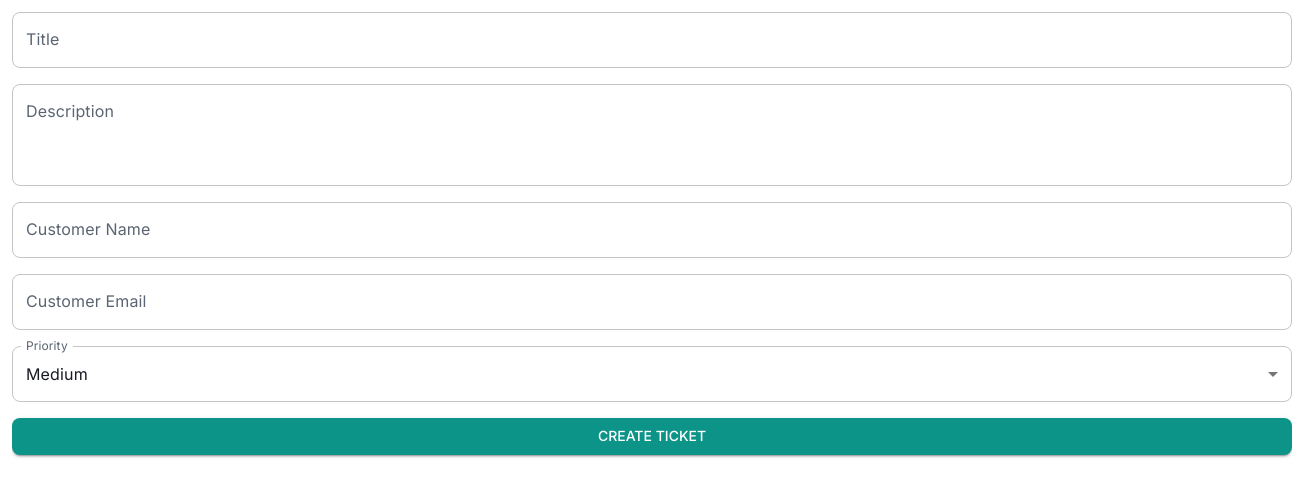
TicketForm › shows a validation error for an invalid email format
Type "Some issue" into the field labelled "Title". click: point(652, 40)
box: [12,12,1292,68]
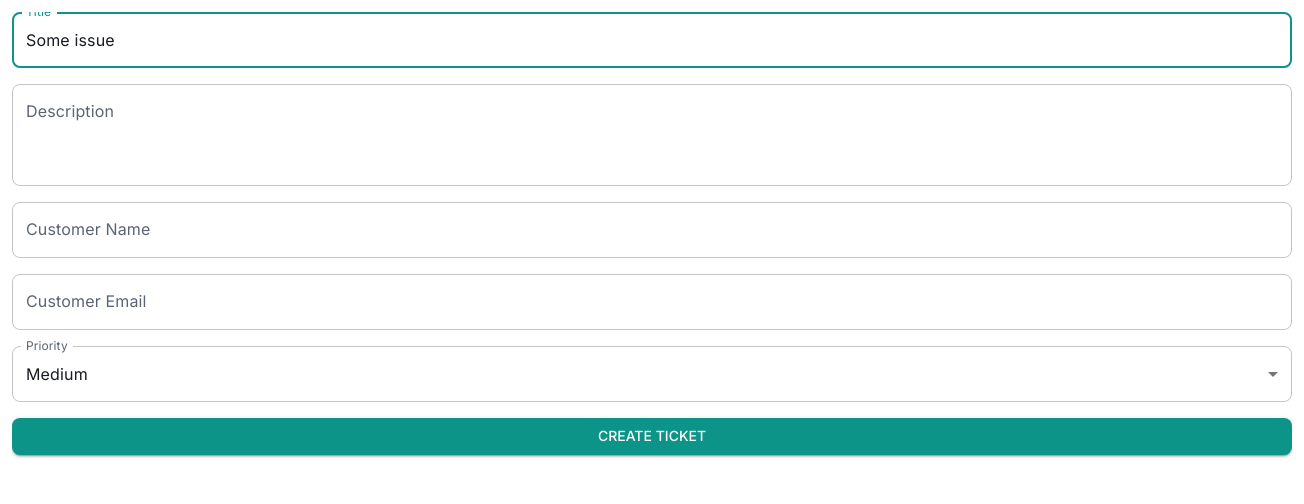
Type "Some description" into the text box labelled "Description". click: point(652, 135)
box: [26,100,1278,170]
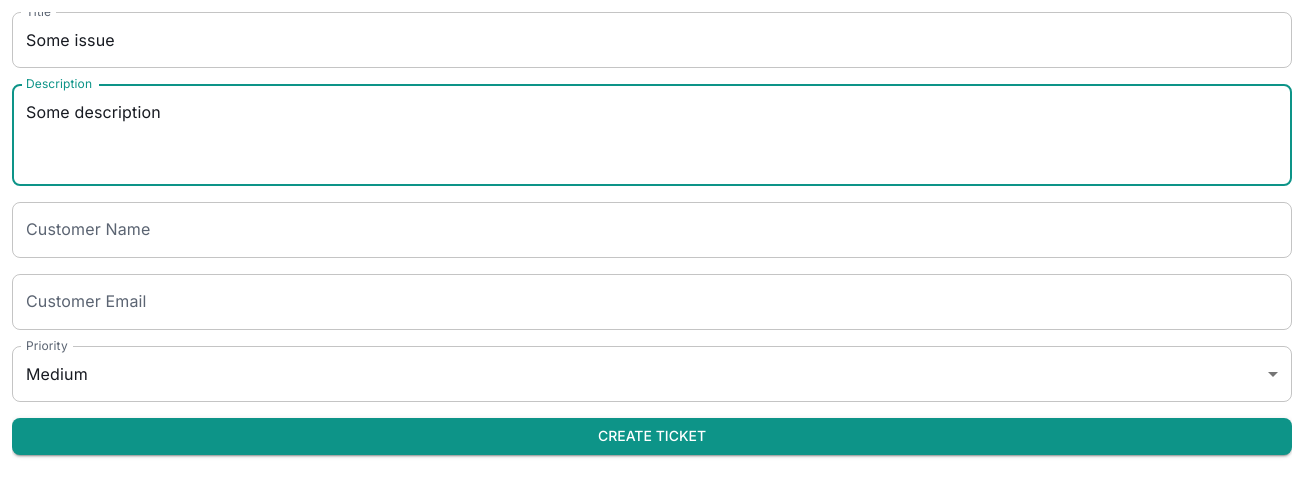
Type "Jane Doe" into the field labelled "Customer Name". click: point(652, 230)
box: [12,202,1292,258]
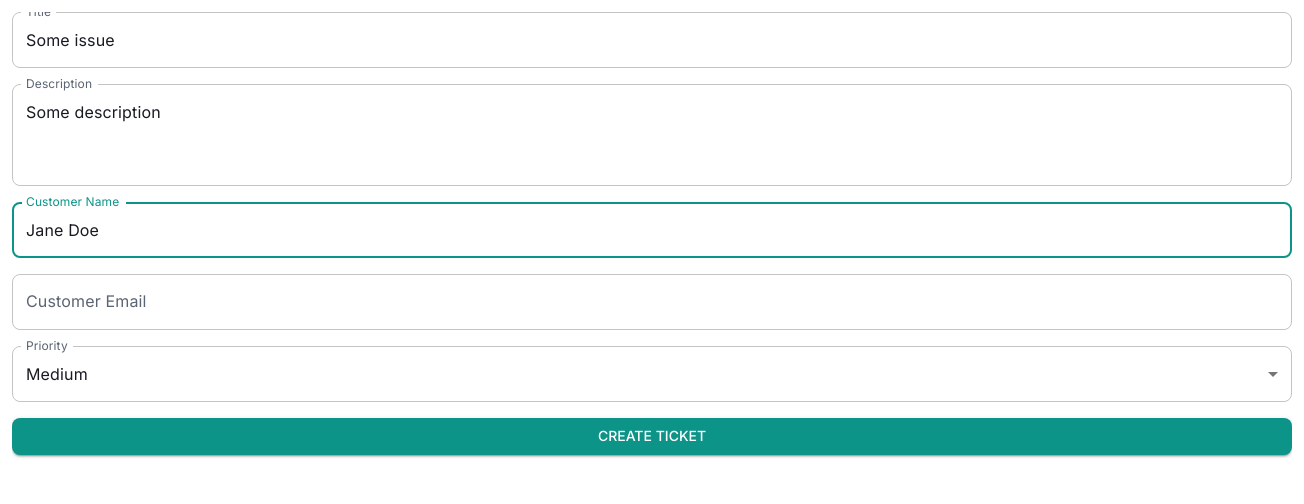
Type "not-an-email" into the field labelled "Customer Email". click: point(652, 302)
box: [12,274,1292,330]
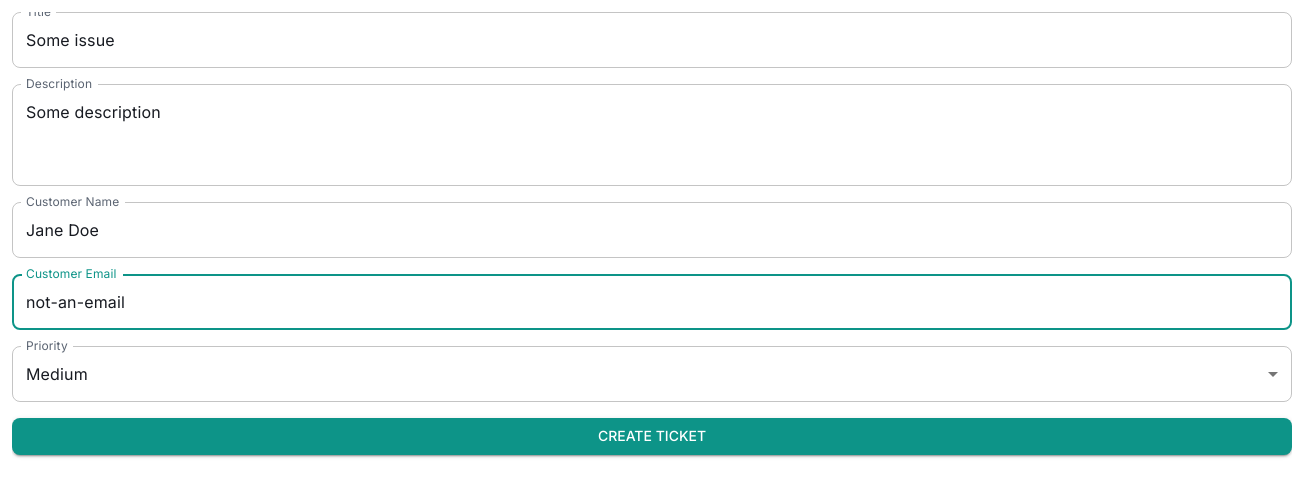
Click the button "Create Ticket". click: point(652, 436)
box: [12,418,1292,454]
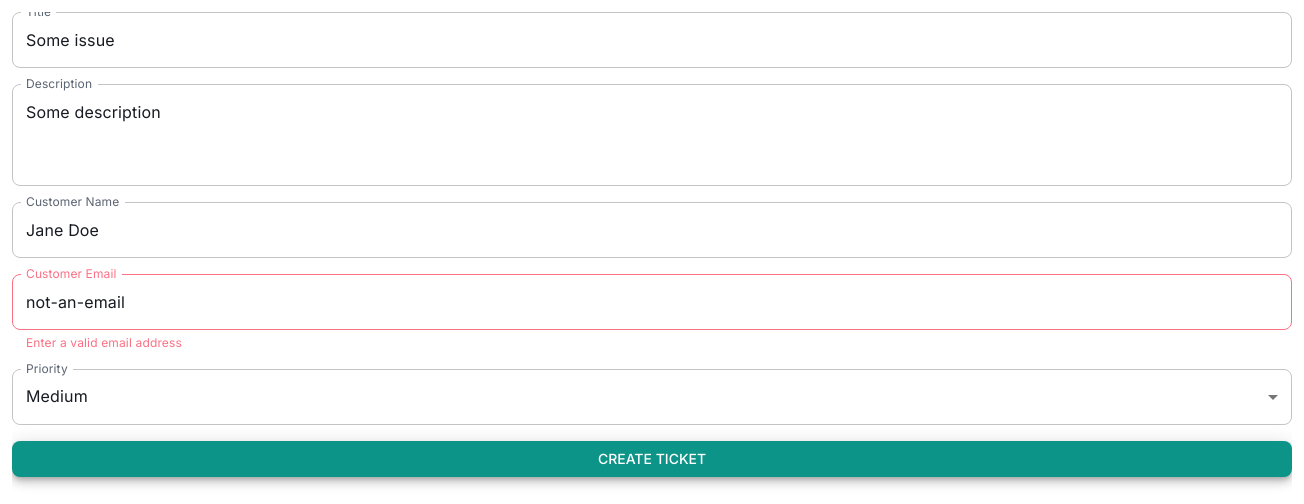
expect the text "Enter a valid email address" is shown: met, box [26,335,182,350]
